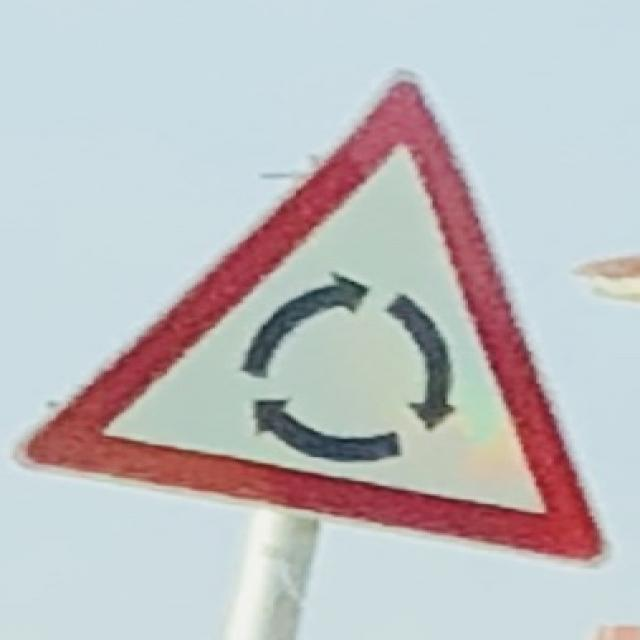roundabout: (28, 77, 605, 569)
